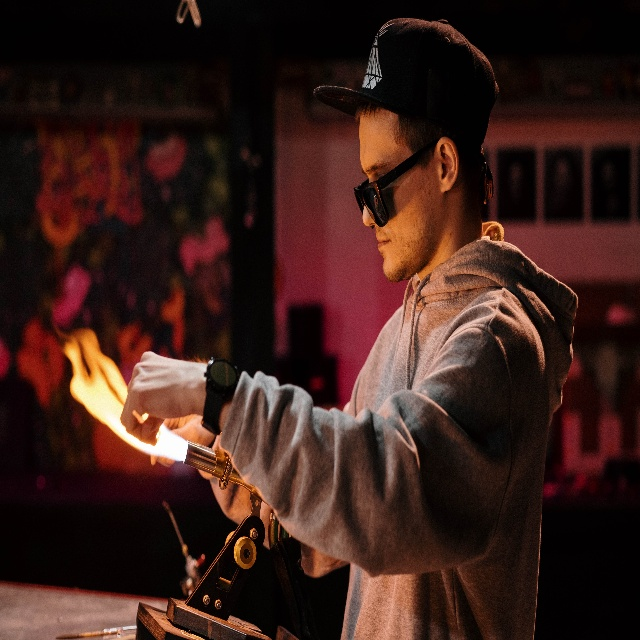Gafas: (354, 143, 434, 228)
Sin_guantes: (120, 351, 208, 445), (150, 414, 215, 468)
